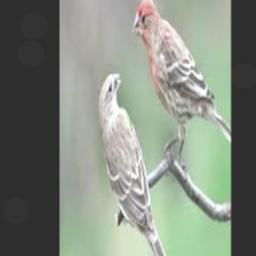Sparrow: (132, 0, 231, 164), (98, 73, 172, 256)
